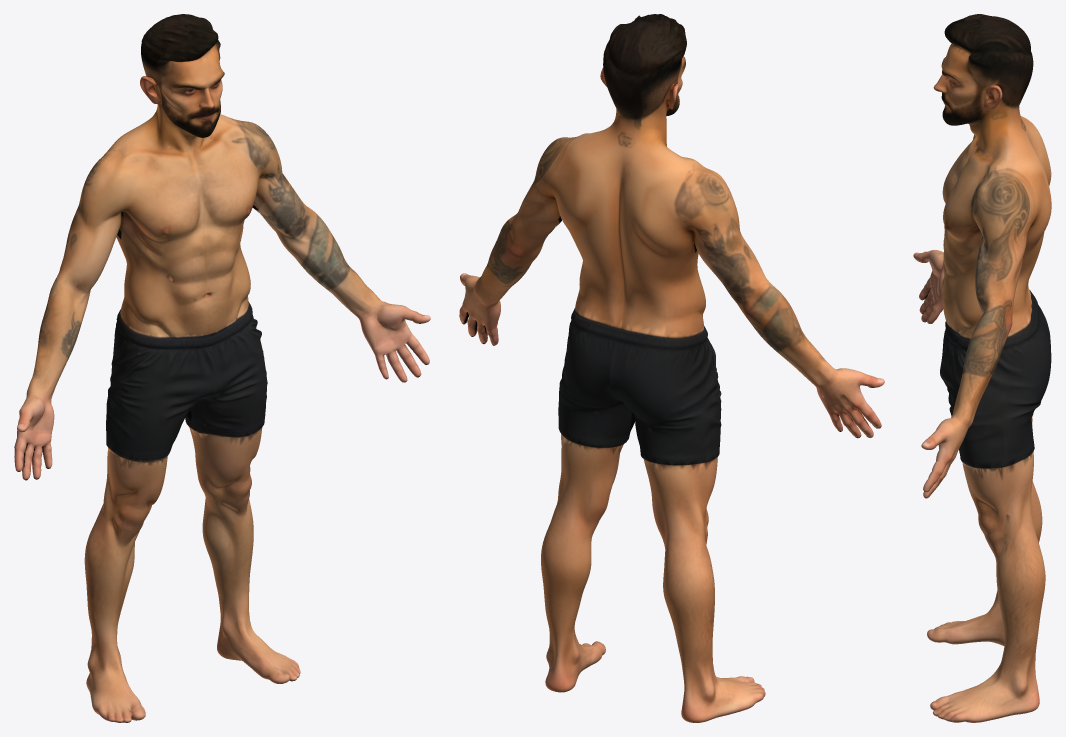
Rendered from Beachmale.glb.
3 views of the same model, side by side, from view 1: azimuth 30°, elevation 25°; view 2: azimuth 150°, elevation 25°; view 3: azimuth 270°, elevation 25° (orthographic).
Visible parts, largest first — view 1: Object_4; view 2: Object_4; view 3: Object_4.
Part boxes in pixels (bbox=[...]): Object_4: bbox=[14, 14, 430, 722]; Object_4: bbox=[459, 14, 884, 722]; Object_4: bbox=[913, 14, 1051, 722].
Size of the model in its own units: 0.6555 by 1 by 0.1906.
1 material, 1 textured.
